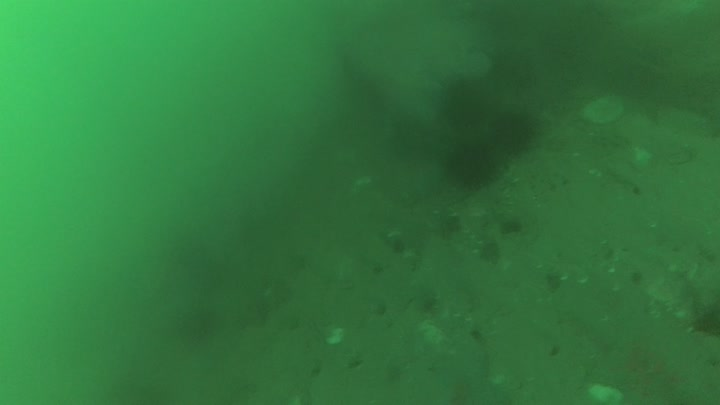echinus: (445, 144, 494, 191), (492, 111, 539, 155)
scallop: (581, 95, 628, 124)
starfish: (236, 300, 271, 329), (635, 145, 653, 165)
